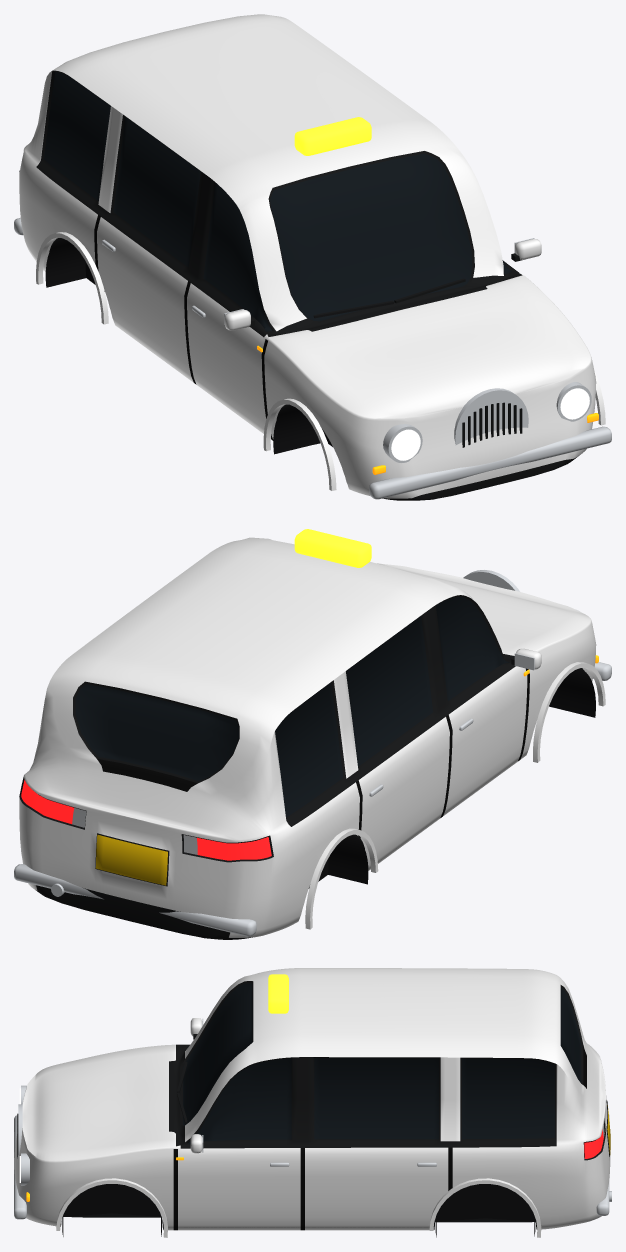
Rendered from cab.glb.
3 renders of one model, top to bottom at view 1: azimuth 30°, elevation 25°; view 2: azimuth 150°, elevation 25°; view 3: azimuth 270°, elevation 25°, orthographic. The views are drawn at different scales.
Visible parts, largest first — view 1: cab; view 2: cab; view 3: cab.
Part boxes in pixels (bbox=[...]): cab: bbox=[14, 14, 611, 500]; cab: bbox=[14, 529, 611, 939]; cab: bbox=[14, 968, 611, 1237].
Size of the model in its own units: 2.3 by 1.72 by 4.63.
